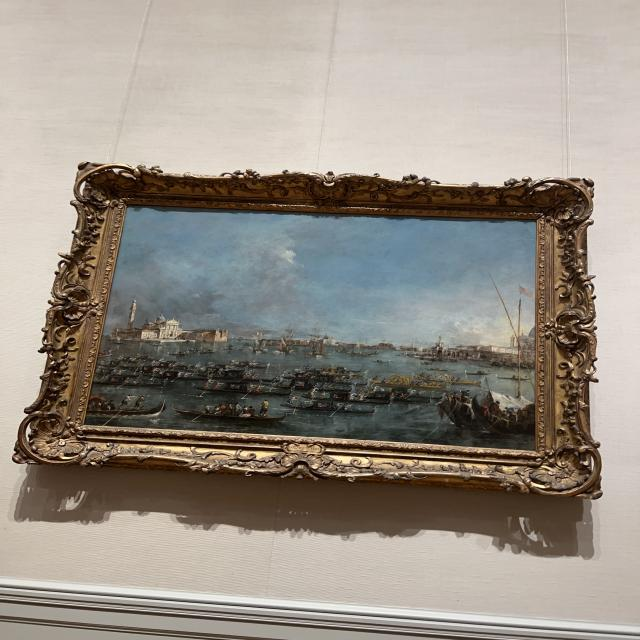ships: (88, 208, 535, 442)
